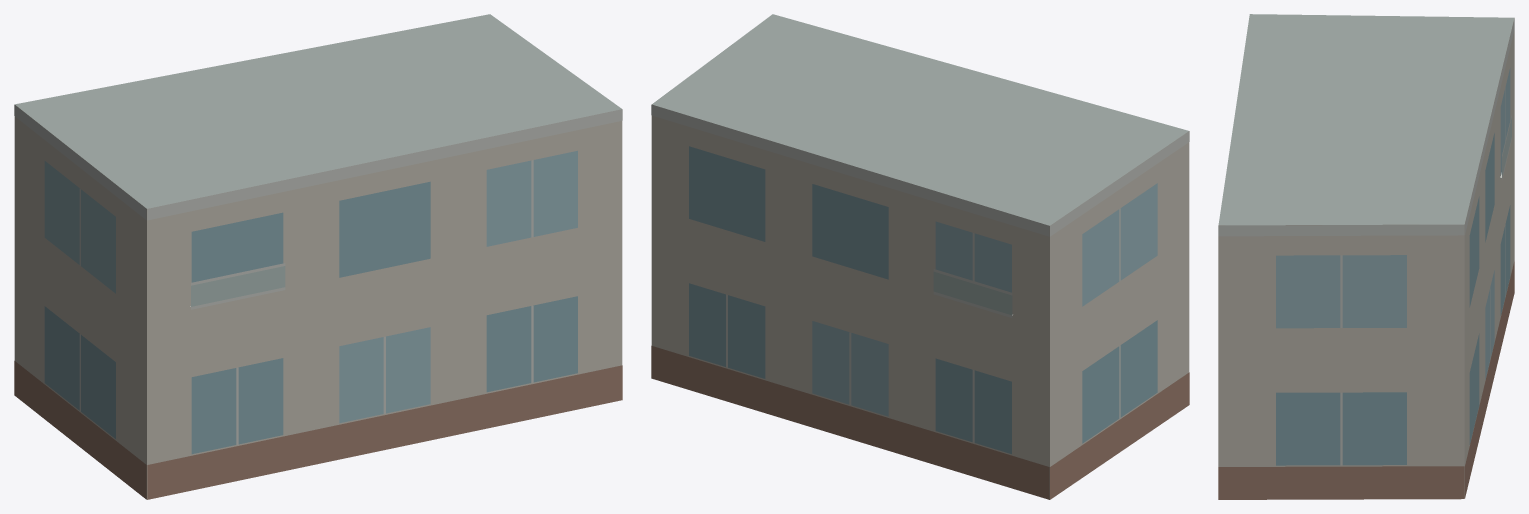
File: survey-upis-32621522.glb
3 renders of one model, left to right at view 1: azimuth 30°, elevation 25°; view 2: azimuth 150°, elevation 25°; view 3: azimuth 270°, elevation 25°, orthographic. The views are drawn at different scales.
Visible parts, largest first — view 1: survey-upis-32621522.tmp; view 2: survey-upis-32621522.tmp; view 3: survey-upis-32621522.tmp.
Part boxes in pixels (box(x1,y1,x2,y2)): survey-upis-32621522.tmp: box(14, 14, 622, 499); survey-upis-32621522.tmp: box(651, 14, 1189, 499); survey-upis-32621522.tmp: box(1218, 14, 1514, 499).
Bounding box in the file's own units: 10.08 × 6.1 × 5.97.
